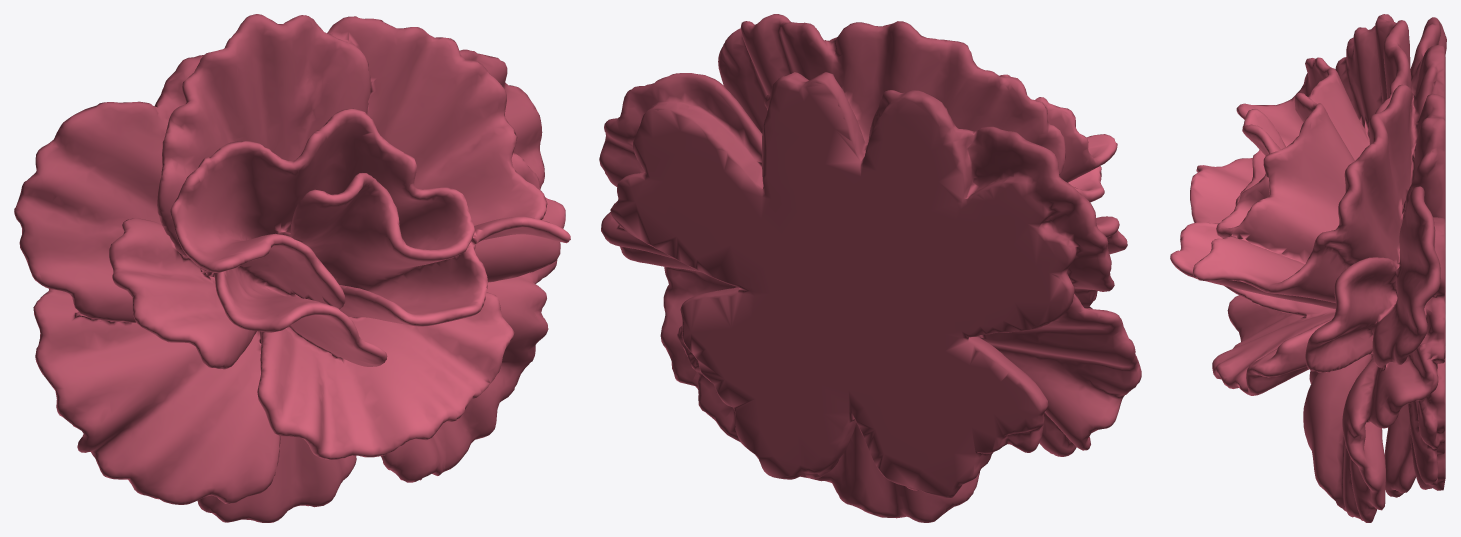
Rendered from carnation.glb.
The picture shows the model from 3 angles, left to right: view 1: azimuth 30°, elevation 25°; view 2: azimuth 150°, elevation 25°; view 3: azimuth 270°, elevation 25°; orthographic projection. The views are drawn at different scales.
Visible parts, largest first — view 1: carnation; view 2: carnation; view 3: carnation.
Boxes of the visible parts, x1,y1,x2,y2 form: carnation: (14, 14, 570, 522); carnation: (599, 14, 1141, 522); carnation: (1170, 14, 1446, 522).
Size of the model in its own units: 1 by 0.9198 by 0.5087.
